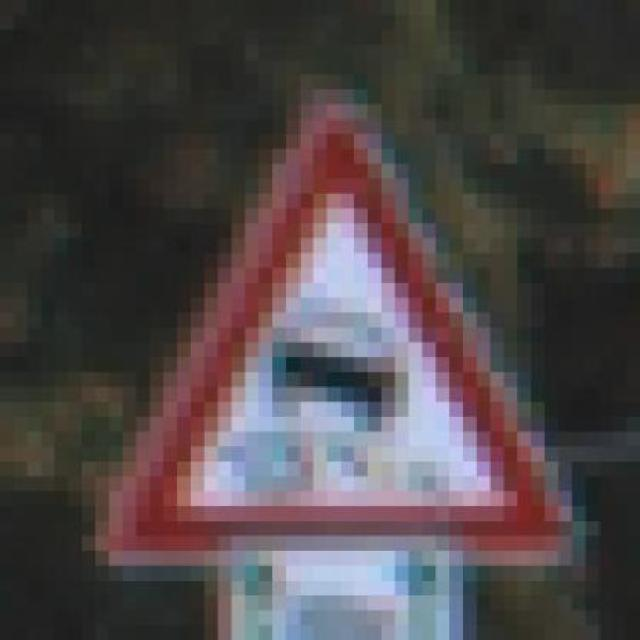Slippery Road Ahead: (101, 73, 578, 565)
